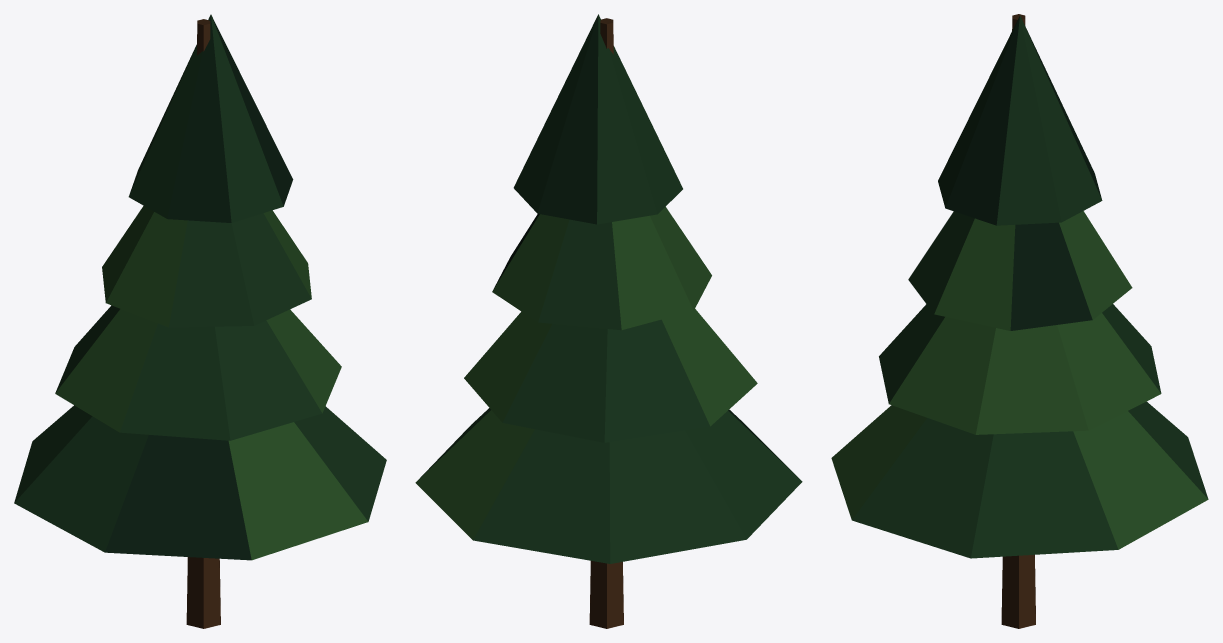
The model's file is pine_1.gltf.
The picture shows the model from 3 angles, left to right: view 1: azimuth 30°, elevation 25°; view 2: azimuth 150°, elevation 25°; view 3: azimuth 270°, elevation 25°; orthographic projection.
Bounding box in the file's own units: 6.09 × 10.85 × 6.09.
